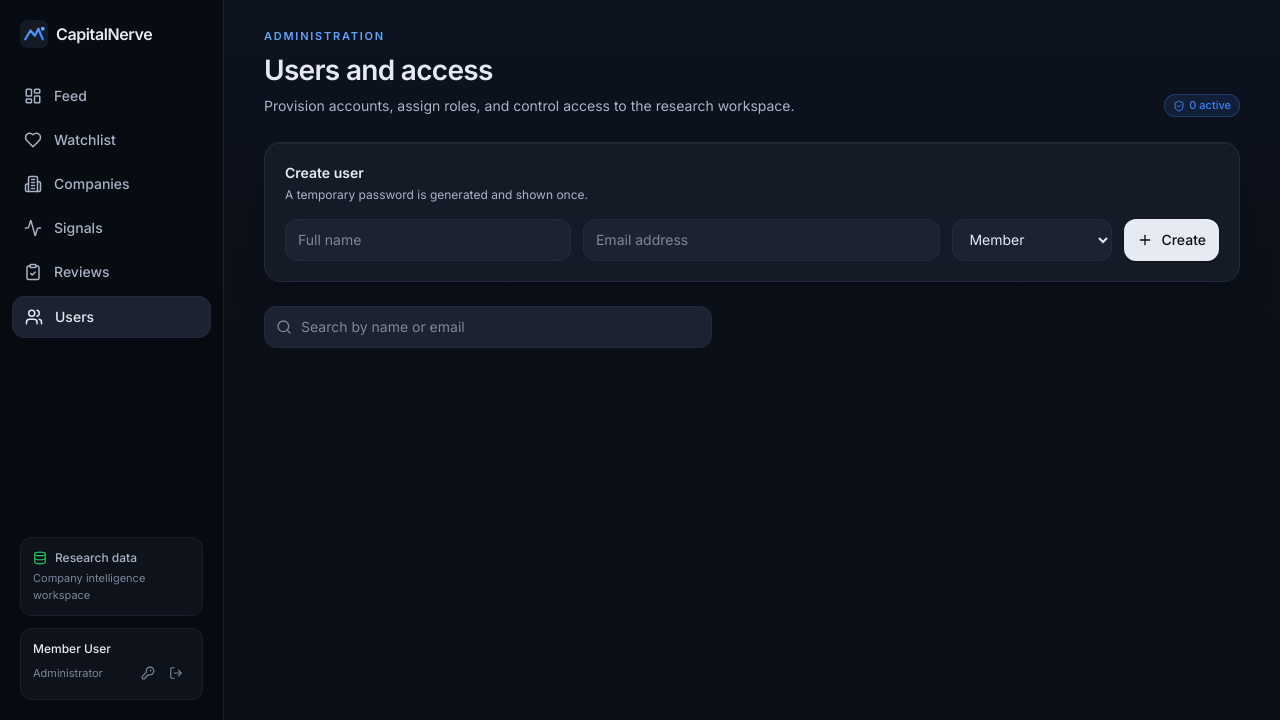
Test: role-aware access › shows an admin a generated credential once after creating a user
expect the heading "Users and access" is shown: met, box [264,52,493,86]
Type "New User" into the field with placeholder "Full name" at (428,240), box [285,218,571,260]
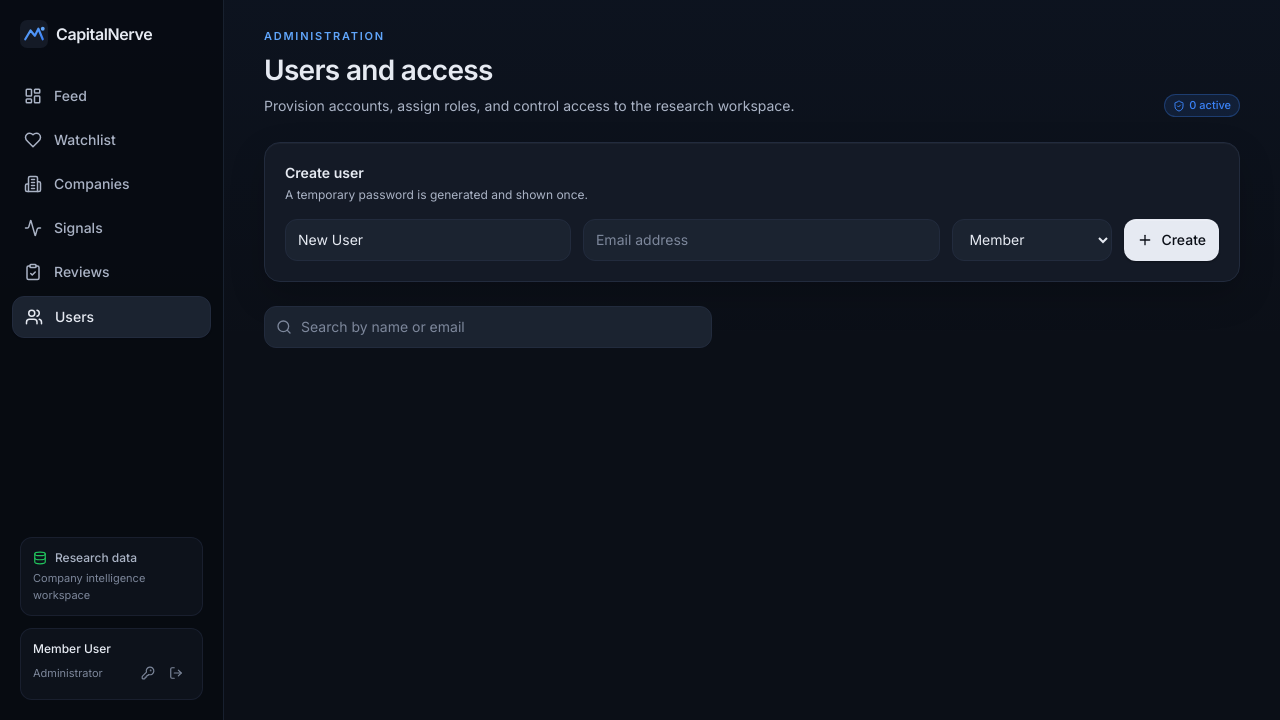
Type "new@example.com" into the field with placeholder "Email address" at (762,240), box [583,218,940,260]
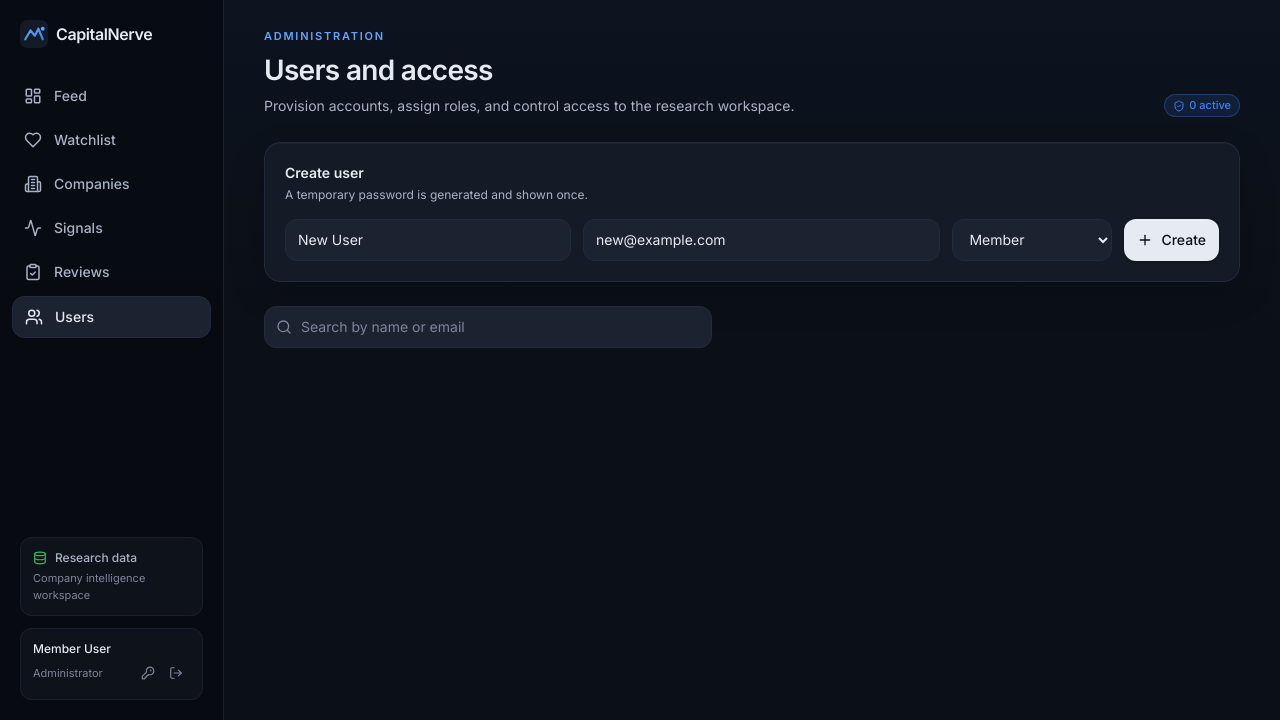
Click the button "Create" at (1172,240), box [1124,218,1219,260]
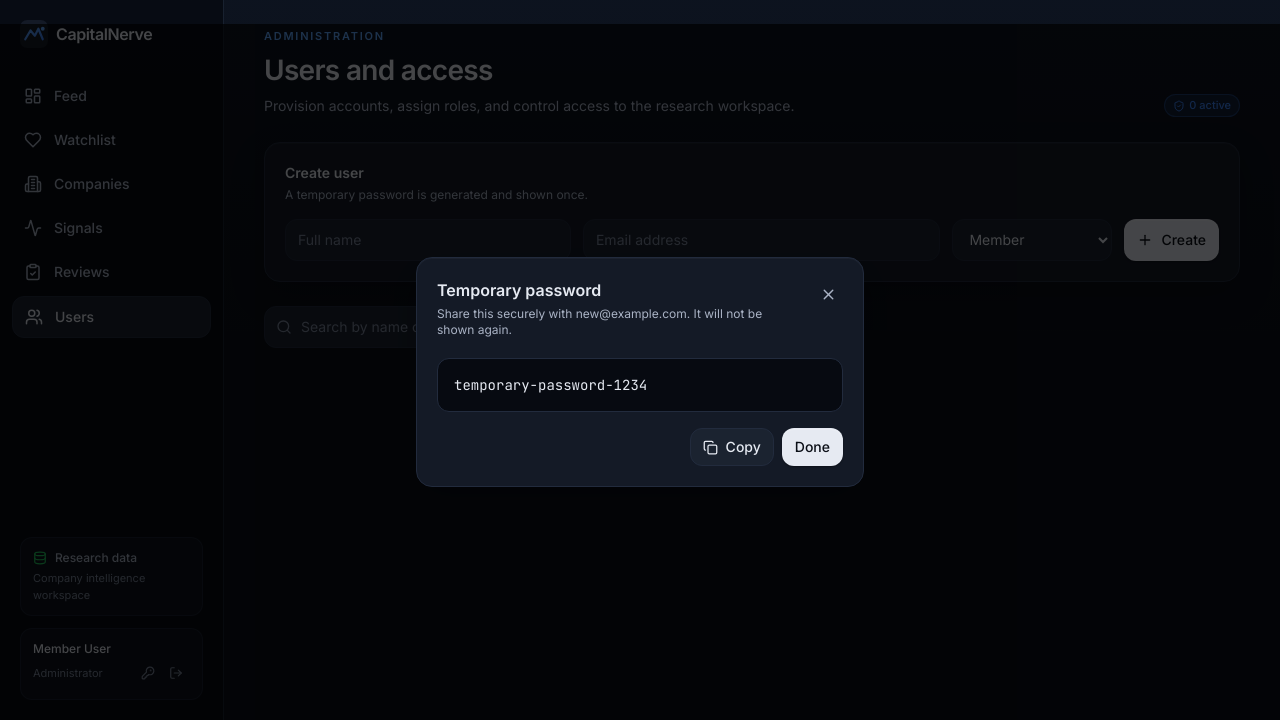
expect the text "temporary-password-1234" is shown: met, box [437,358,843,412]
Click the button "Done" at (812,447), box [782,428,843,466]
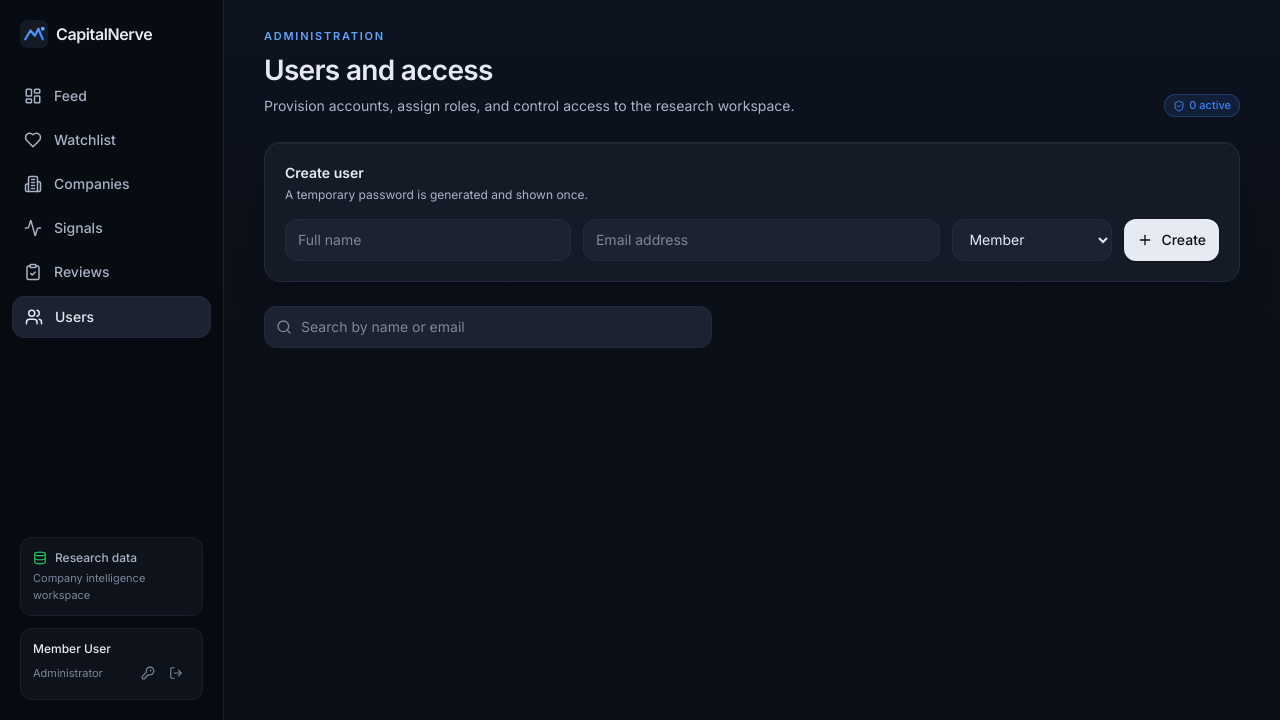
expect the text "temporary-password-1234" is gone: met
